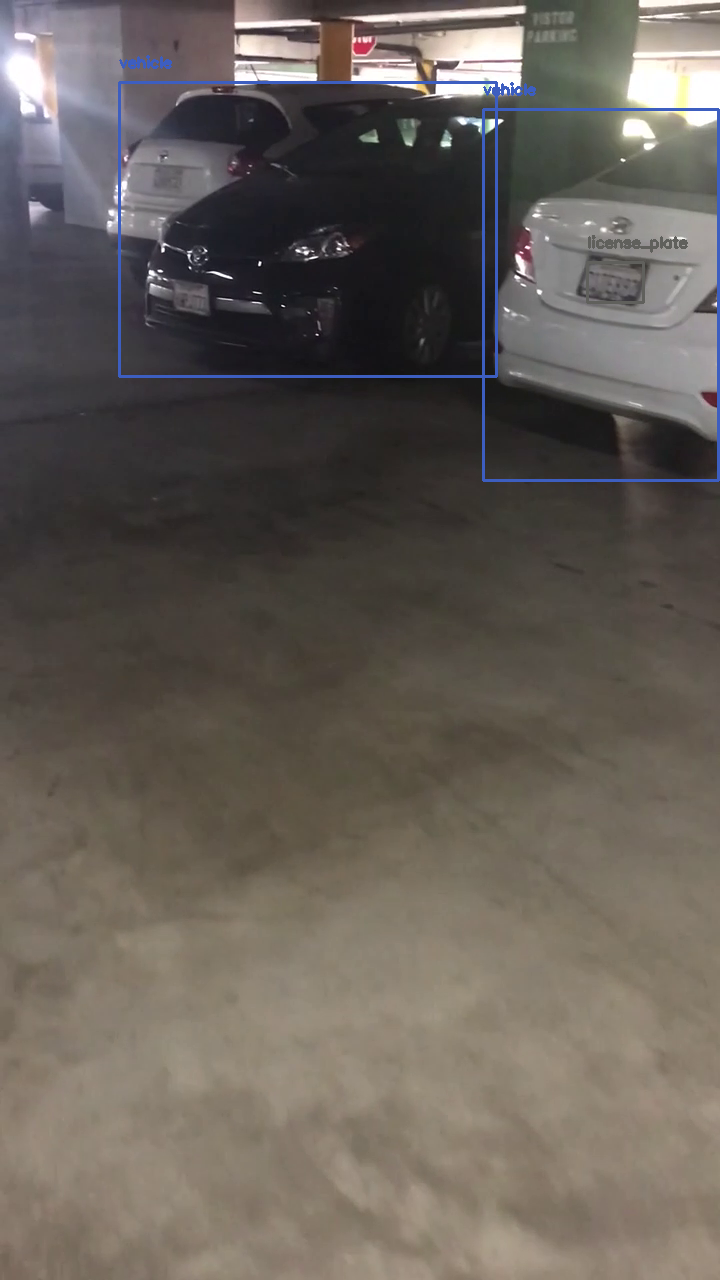license_plate: (587, 262, 643, 302)
vehicle: (119, 82, 496, 376), (483, 109, 718, 480)
